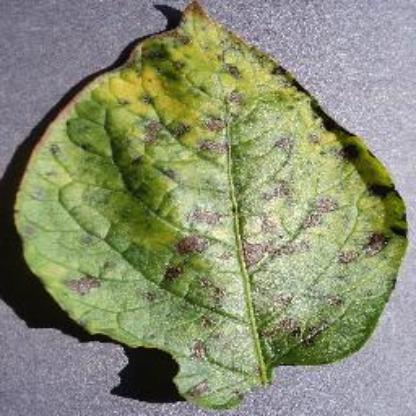Early-Blight: (9, 4, 411, 408)
